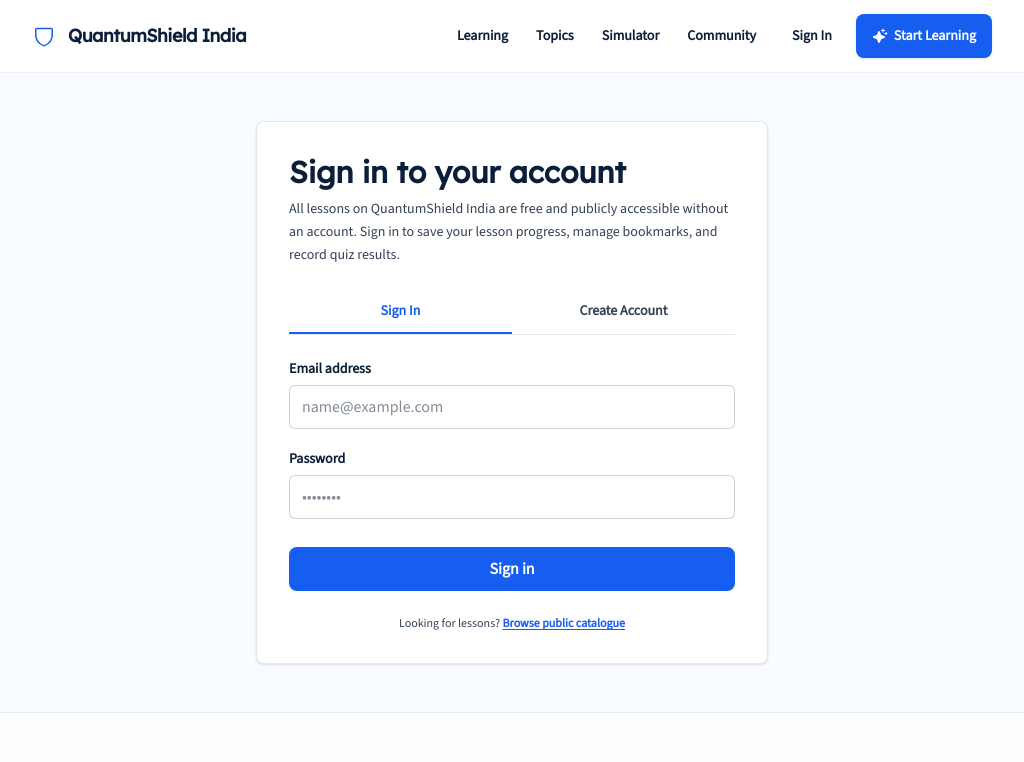
Test: Learner experience and authentication flows › shows accessible validation error when submitting empty fields
What coordinates should you click on to do the following:
click the button "Sign in"
I would click on:
 (512, 569)
Its box is [289,547,735,591].
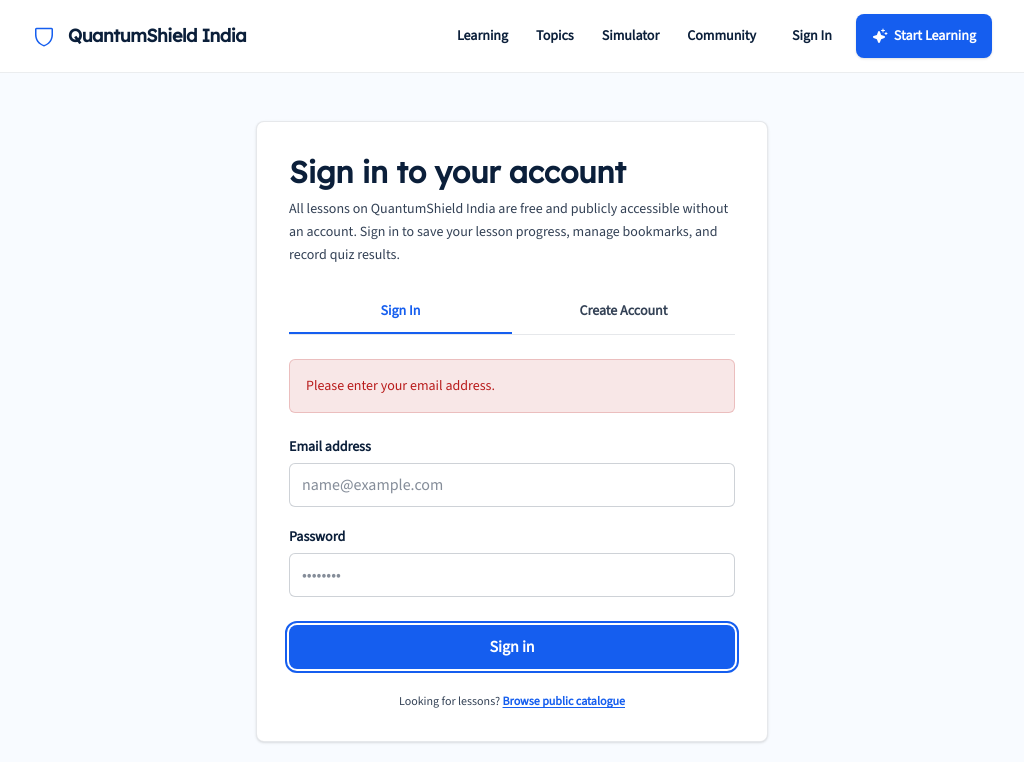
Check: the message shows "Please enter your email address", box [306,376,495,395]
